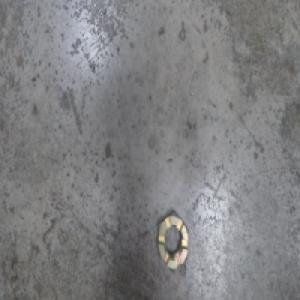Nut: (156, 209, 189, 273)
